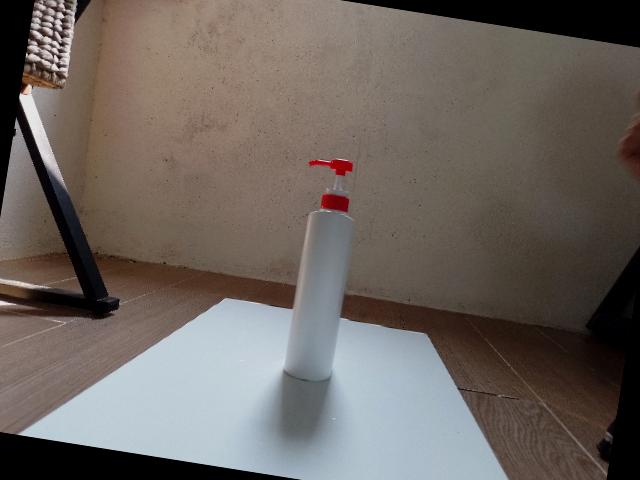life-buoy: (283, 159, 354, 382)
